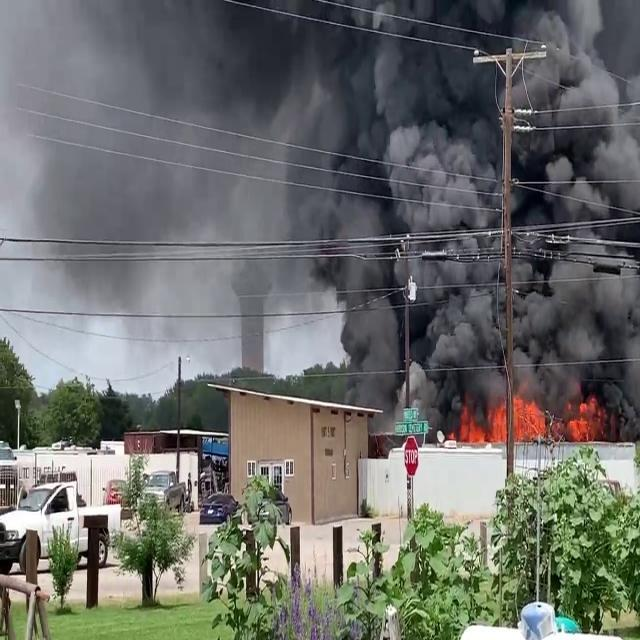Fire: (468, 390, 606, 443)
Smoke: (2, 1, 567, 399), (511, 0, 639, 413)
